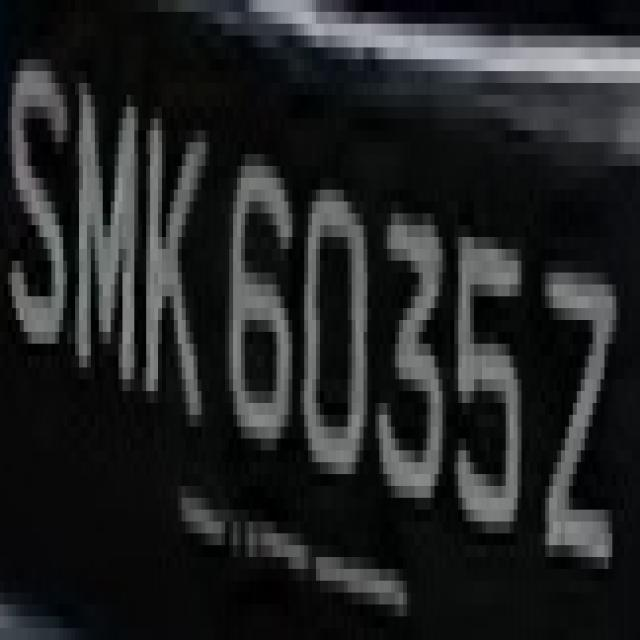0: (300, 142, 372, 522)
3: (372, 154, 446, 545)
5: (442, 142, 518, 593)
6: (218, 106, 288, 498)
K: (138, 83, 210, 462)
M: (75, 47, 142, 403)
S: (12, 24, 75, 391)
Z: (530, 213, 628, 593)
